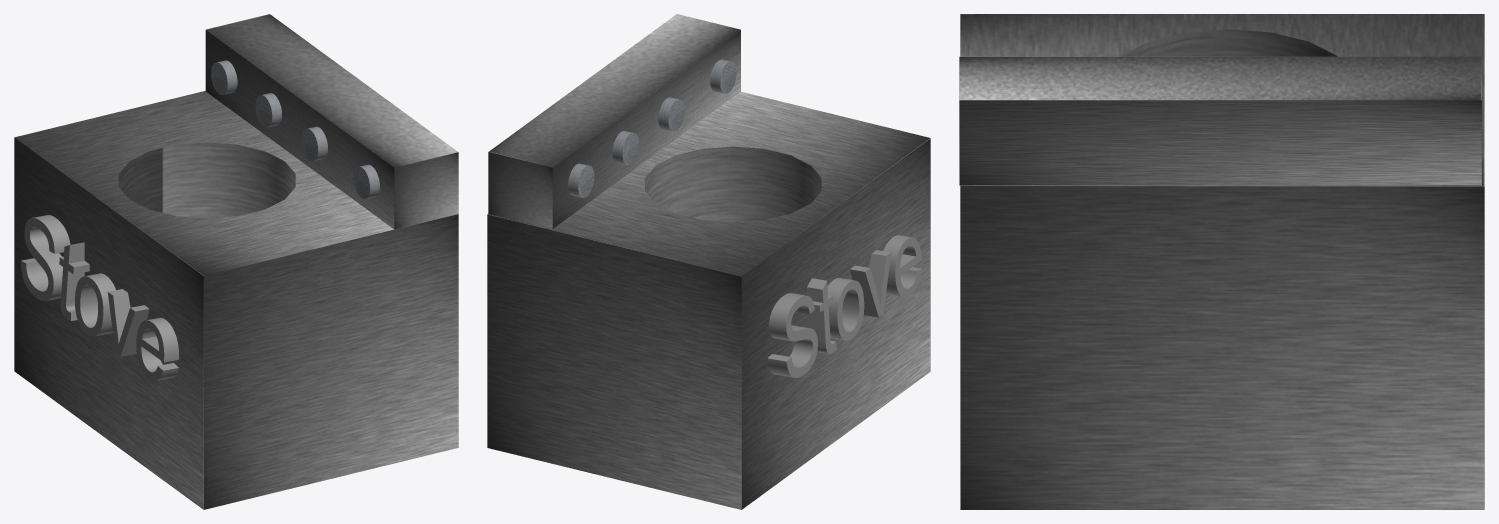
Rendered from oven.obj.
The picture shows the model from 3 angles, left to right: view 1: azimuth 30°, elevation 25°; view 2: azimuth 150°, elevation 25°; view 3: azimuth 270°, elevation 25°; orthographic projection. The views are drawn at different scales.
Parts seen in each view (by area): view 1: Cylinder001, Box002, Text001, Cylinder002, Cylinder005, Cylinder003, Cylinder004; view 2: Cylinder001, Box002, Text001, Cylinder004, Cylinder002, Cylinder003, Cylinder005; view 3: Cylinder001, Box002.
Part boxes in pixels (x1,y1,x2,y2): Cylinder001: (14,91,458,509); Box002: (205,14,458,229); Text001: (21,215,179,380); Cylinder002: (211,60,237,94); Cylinder005: (353,164,379,198); Cylinder003: (255,93,281,127); Cylinder004: (301,126,327,160); Cylinder001: (487,91,930,509); Box002: (488,14,740,228); Text001: (767,235,921,377); Cylinder004: (658,97,684,131); Cylinder002: (568,163,594,197); Cylinder003: (612,131,638,165); Cylinder005: (710,59,736,93); Cylinder001: (960,14,1484,509); Box002: (959,56,1481,185).
Bounding box in the file's own units: 48.81 × 50.14 × 58.25.
